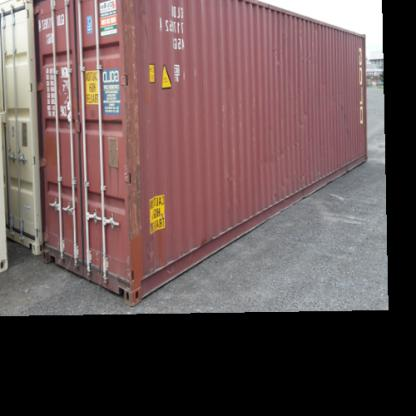Damage: (114, 6, 149, 242)
